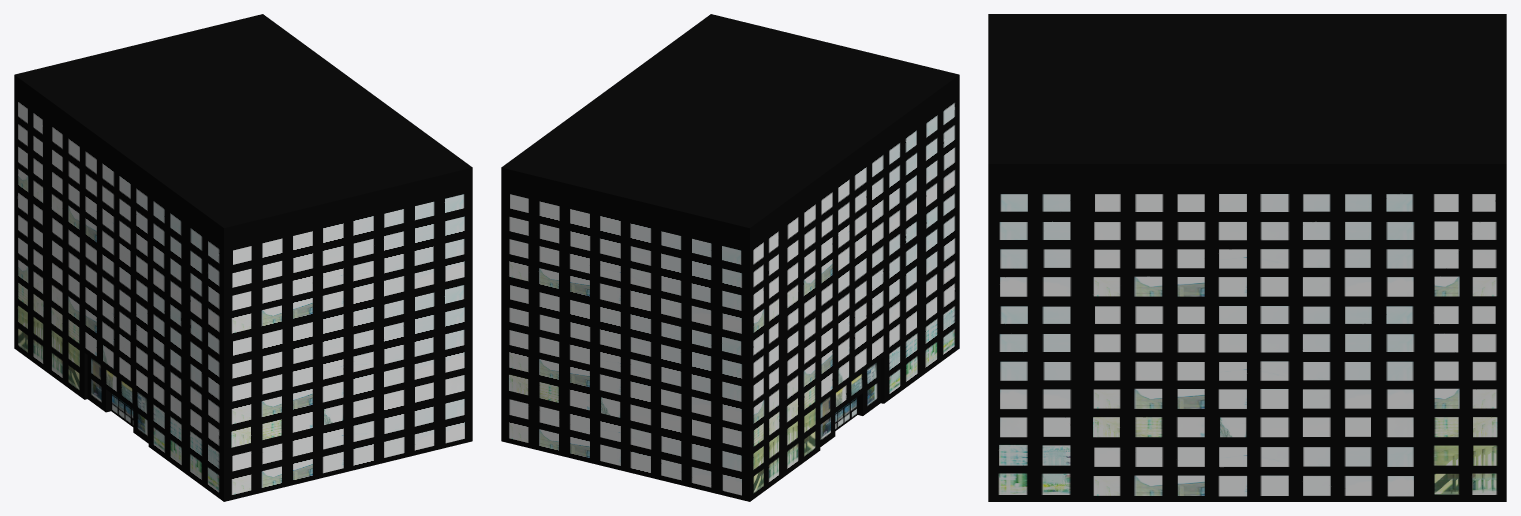
Rendered from building11.FBX.
3 renders of one model, left to right at view 1: azimuth 30°, elevation 25°; view 2: azimuth 150°, elevation 25°; view 3: azimuth 270°, elevation 25°, orthographic. The views are drawn at different scales.
Visible parts, largest first — view 1: Box002; view 2: Box002; view 3: Box002.
Boxes of the visible parts, left/top/right/bottom form: Box002: left=14, top=14, right=472, bottom=501; Box002: left=501, top=14, right=959, bottom=501; Box002: left=988, top=14, right=1506, bottom=501.
Size of the model in its own units: 152 by 160 by 222.
